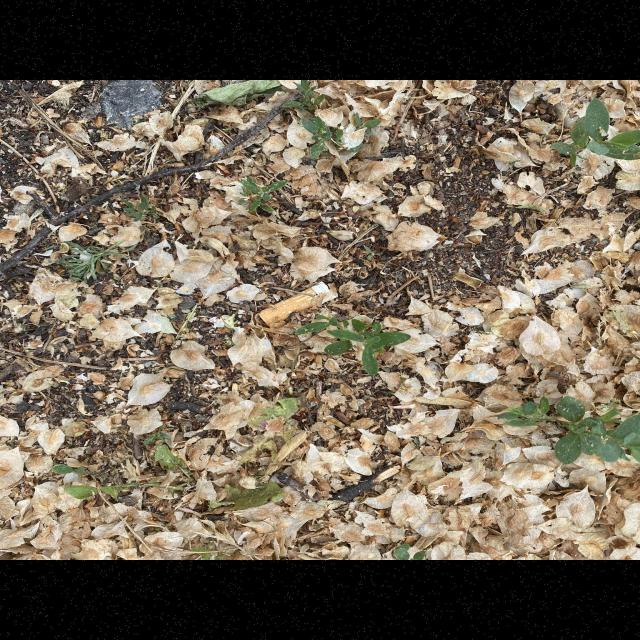other waste: (257, 281, 339, 328)
